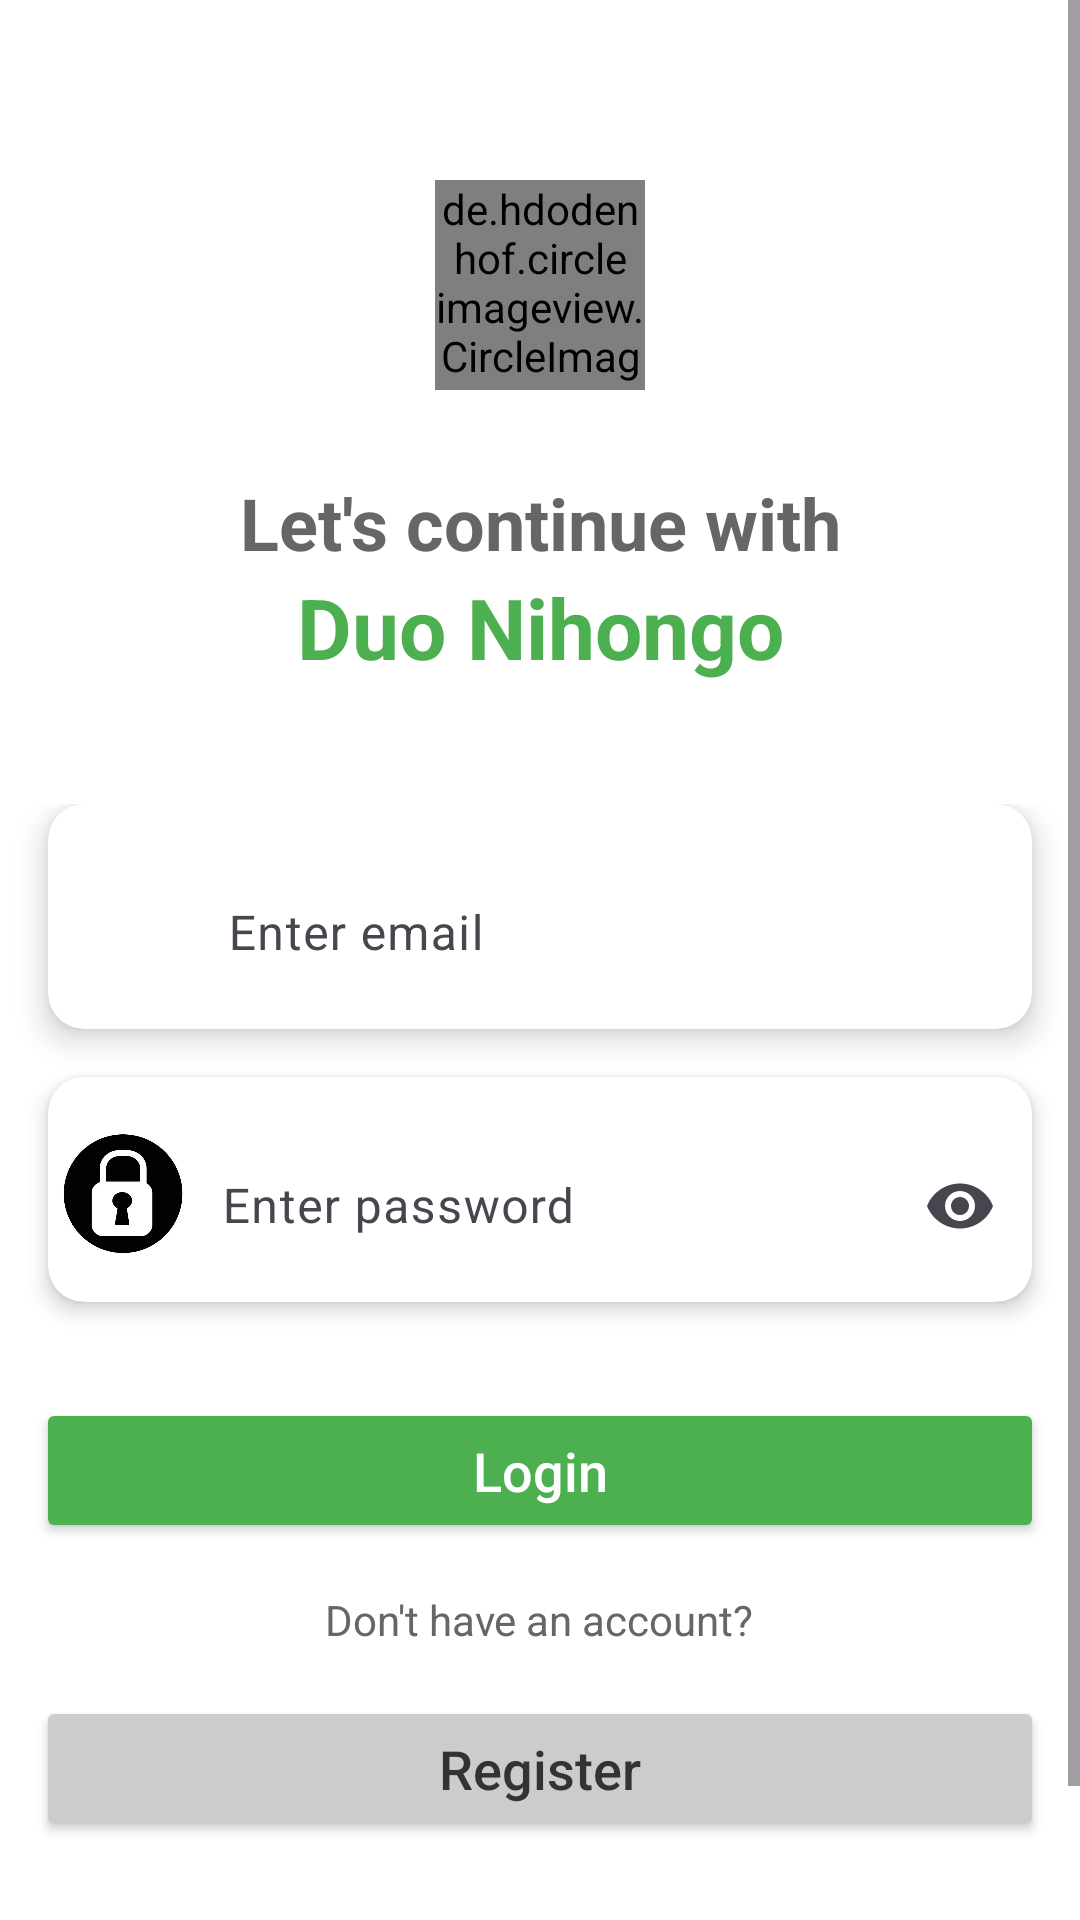

Named icons in this screenshot (1080 × 1920) and their centers, (x=x, y=y):
lock: (x=115, y=1178)
